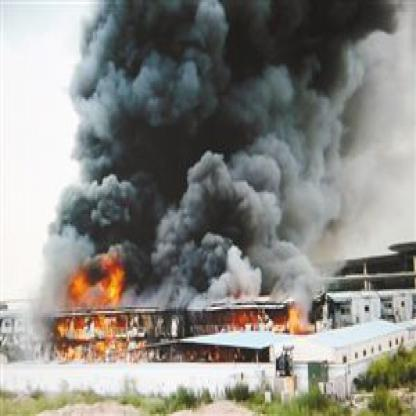fire: (104, 262, 125, 304), (66, 268, 88, 301), (287, 306, 301, 335)
